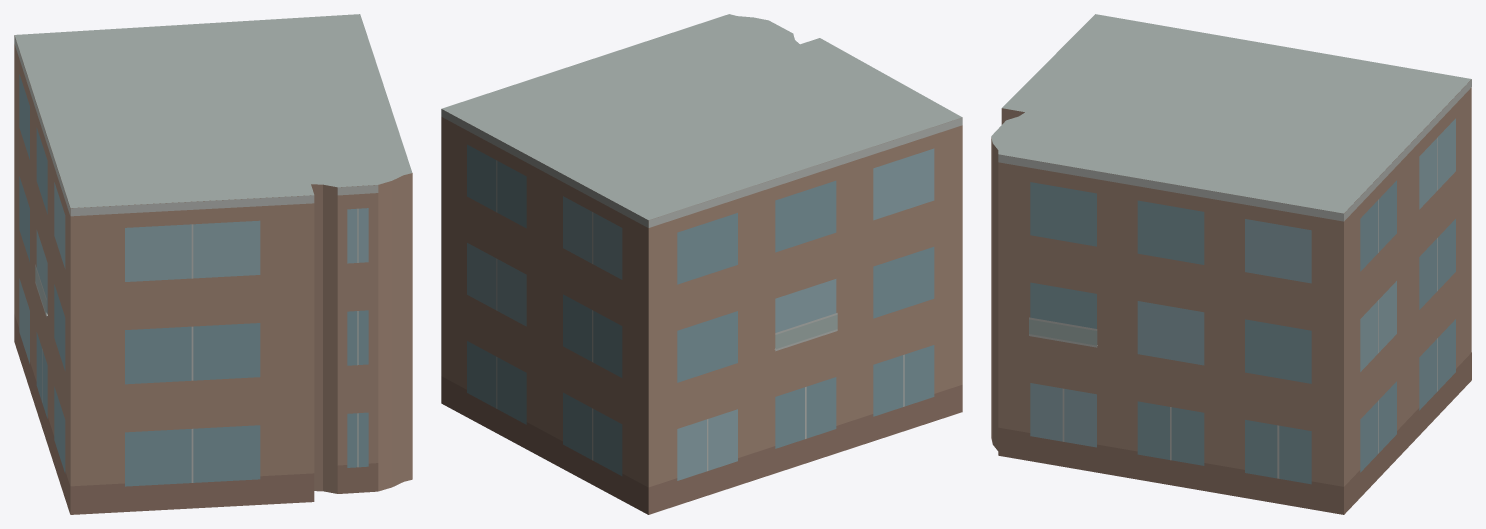
File: survey-upis-33010767.glb
The picture shows the model from 3 angles, left to right: view 1: azimuth 30°, elevation 25°; view 2: azimuth 150°, elevation 25°; view 3: azimuth 270°, elevation 25°; orthographic projection. The views are drawn at different scales.
Parts seen in each view (by area): view 1: survey-upis-33010767.tmp; view 2: survey-upis-33010767.tmp; view 3: survey-upis-33010767.tmp.
Boxes of the visible parts, bbox=[...] form: survey-upis-33010767.tmp: bbox=[14, 14, 412, 514]; survey-upis-33010767.tmp: bbox=[441, 14, 962, 514]; survey-upis-33010767.tmp: bbox=[991, 14, 1471, 514].
Bounding box in the file's own units: 13 × 9.15 × 13.23.
